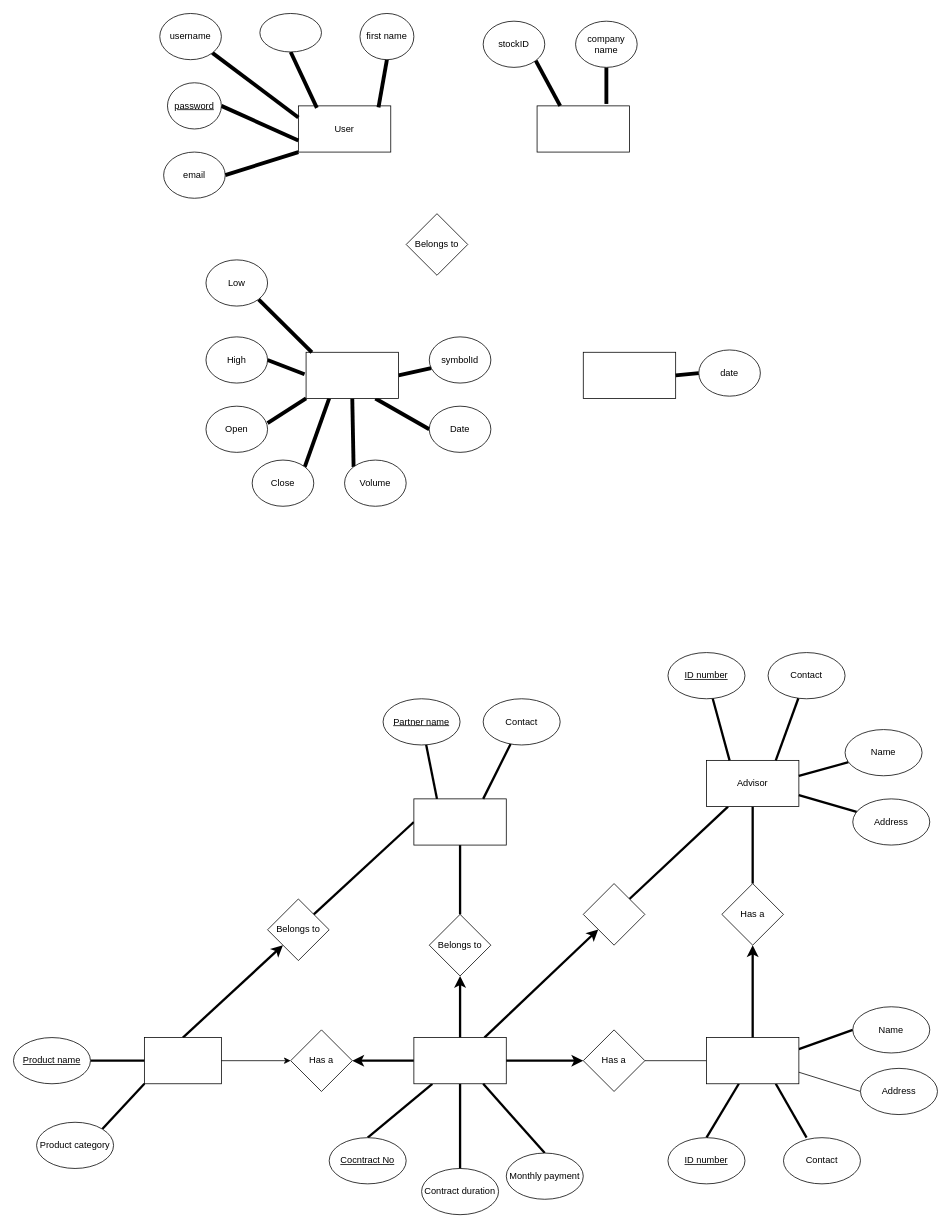
Image size: 951x1228. Some labels were removed from this diagram. The shapes that lost their labels are listed below. From the top down, each one's box as (x1, y1, x2, y2) in pixels, then its label:
(259, 13, 321, 52): last name
(536, 105, 629, 152): Stock
(305, 352, 398, 398): Price
(583, 352, 676, 398): Orders
(413, 798, 506, 845): Partner
(583, 883, 645, 945): Signed a
(144, 1037, 221, 1084): Product
(413, 1037, 506, 1084): Contract
(706, 1037, 799, 1084): Client
